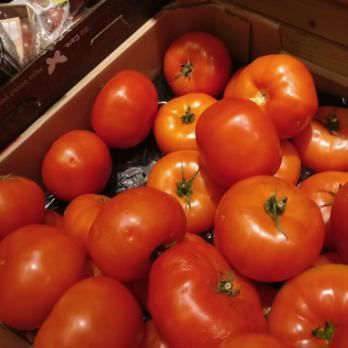Tomato: (163, 37, 348, 348), (201, 111, 348, 344), (0, 165, 167, 348), (237, 240, 348, 348), (98, 182, 182, 267), (87, 69, 161, 147), (32, 132, 112, 198)
